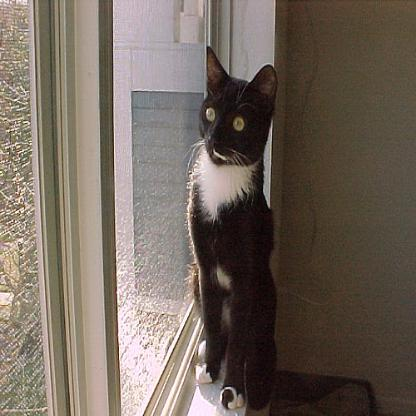cat: (184, 43, 280, 410)
